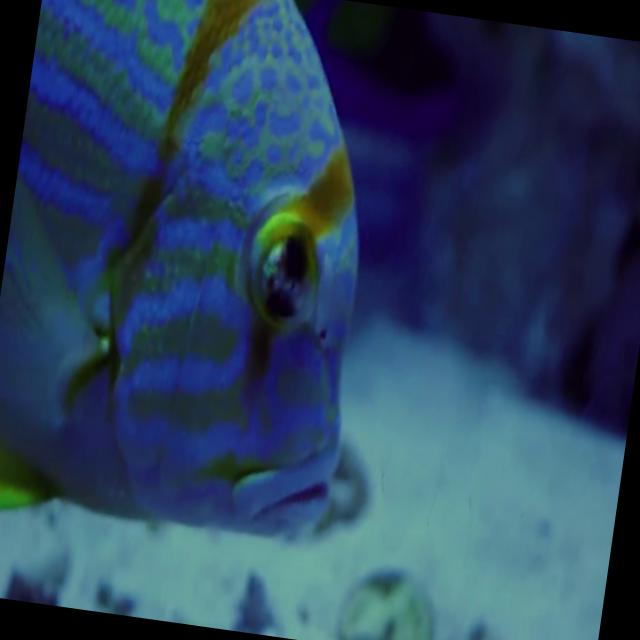fish: (0, 0, 402, 563)
